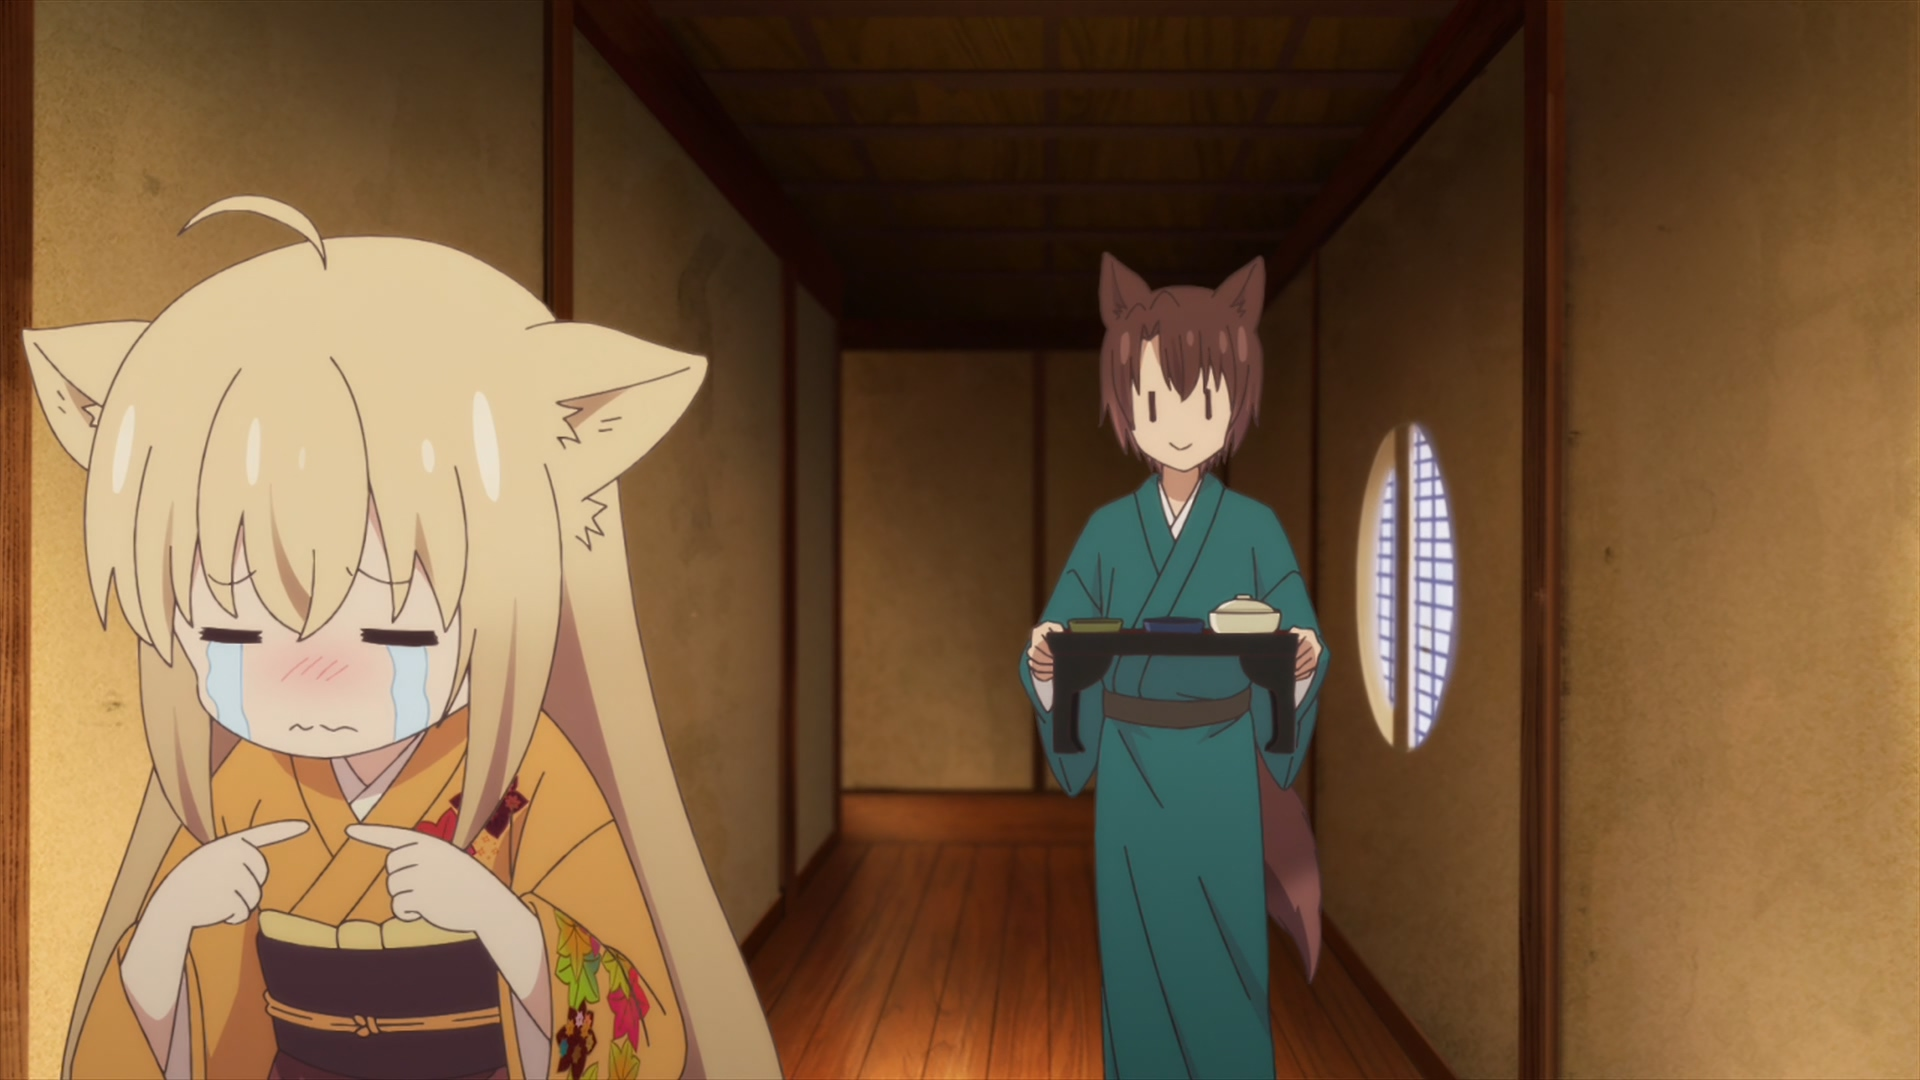枣: (1019, 251, 1331, 1080)
柚: (22, 195, 782, 1080)
